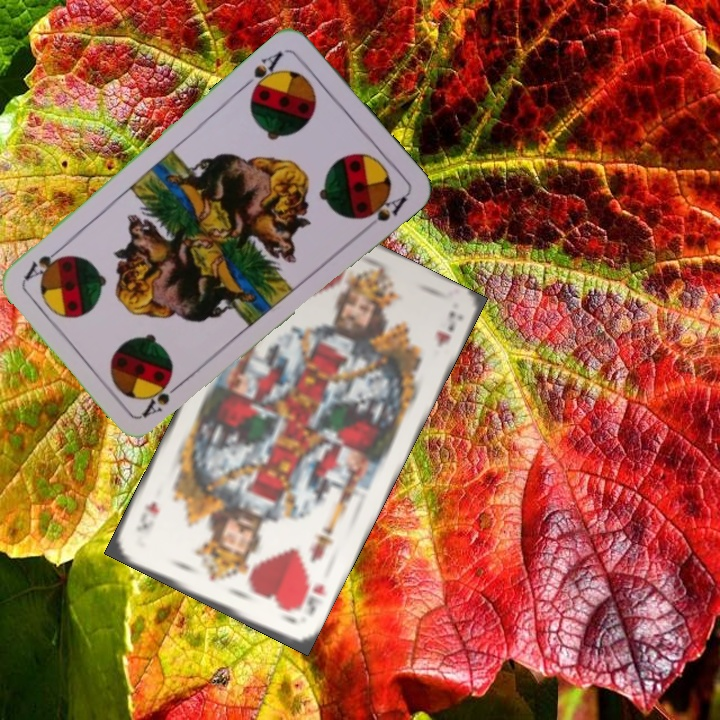HK: (290, 579, 329, 619)
SA: (239, 47, 285, 97), (138, 376, 187, 421)
